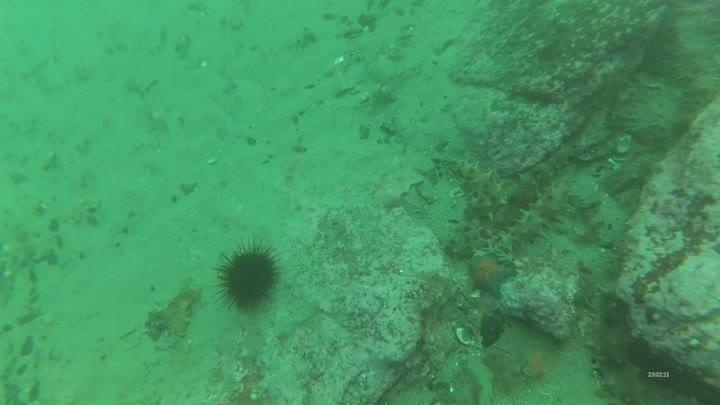echinus: (213, 240, 283, 313)
holothurian: (584, 286, 647, 405), (500, 179, 574, 251), (452, 157, 509, 222), (149, 278, 203, 344)
starfish: (464, 251, 515, 299)
